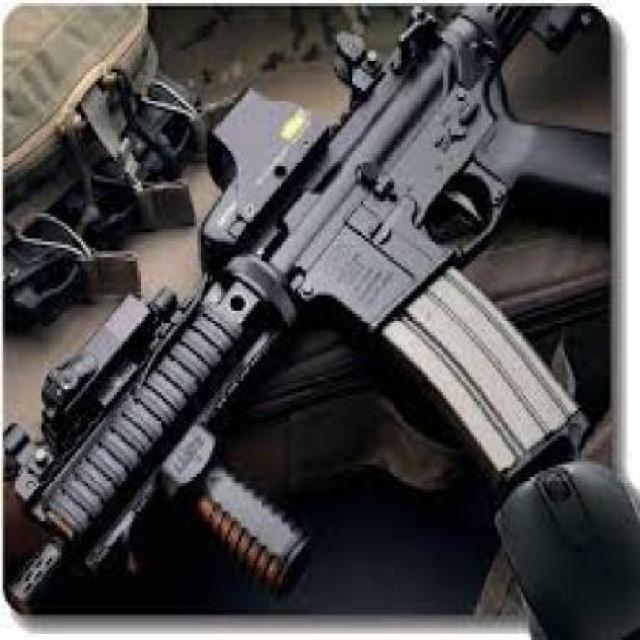weapon: (8, 5, 607, 589)
